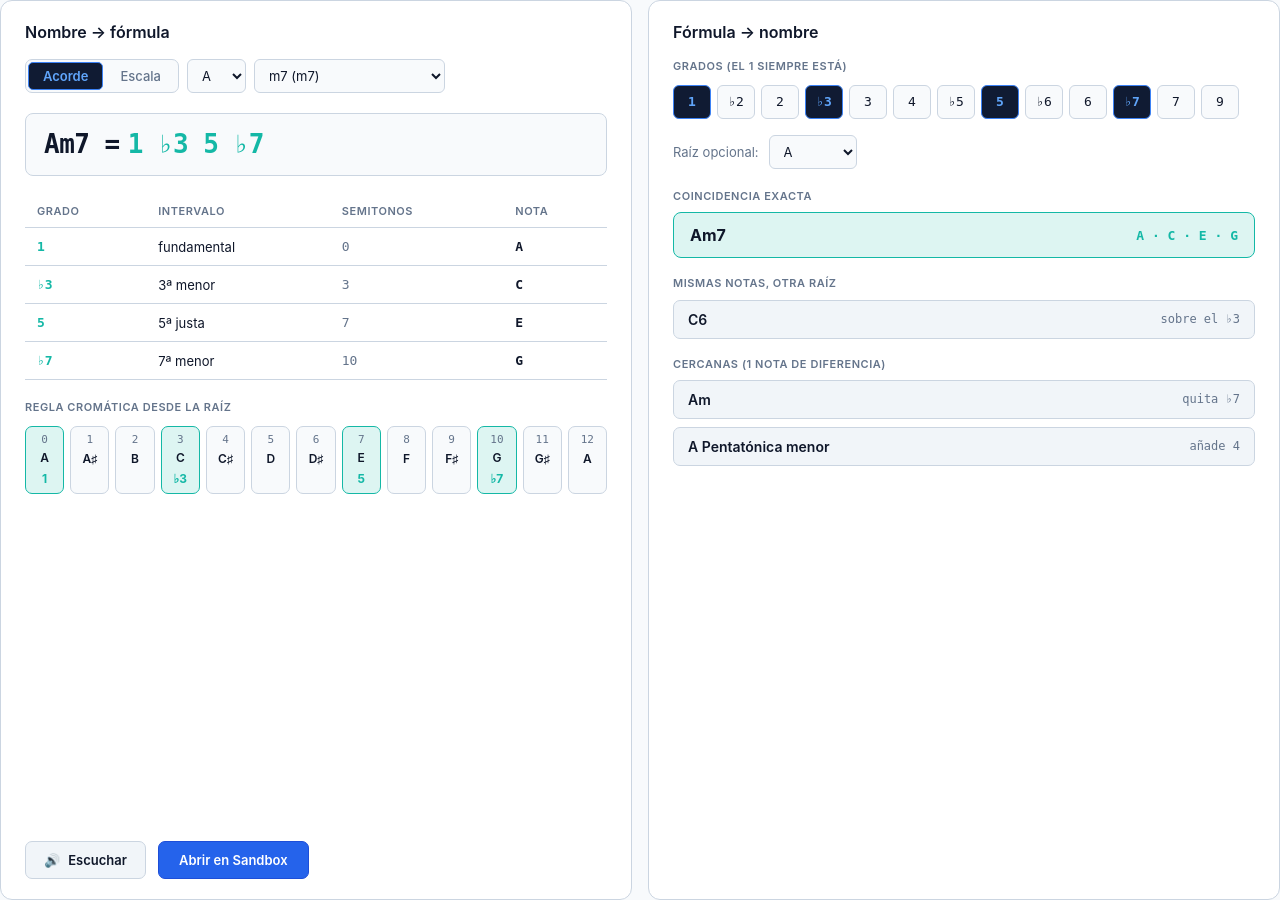
Test: FormulasView (Hito A6) › (c) Columna derecha: búsqueda inversa identifyByFormula (exactas, otra raíz y cercanas)
expect the button with aria-label "Seleccionar coincidencia exacta Am7" shows "A · C · E · G": met, box [673,212,1255,258]
Note: Probar interacción: hacer clic en C6 actualiza la columna izquierda a C6
Click the button with aria-label "Seleccionar rotación C6" at (1200, 319), box [673,300,1255,339]
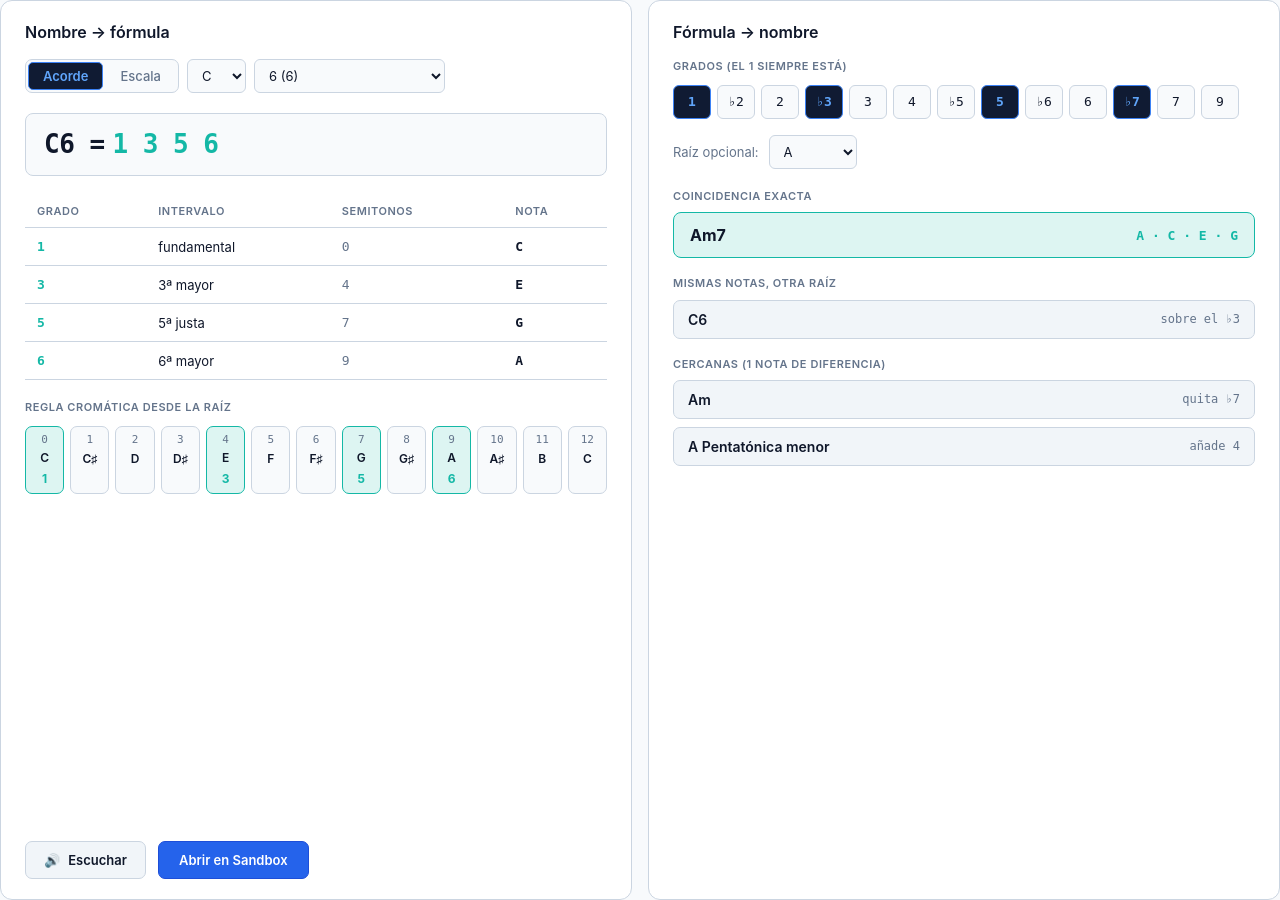
expect the element with test id "formula-equation" shows "C6 =": met, box [25,113,607,176]
